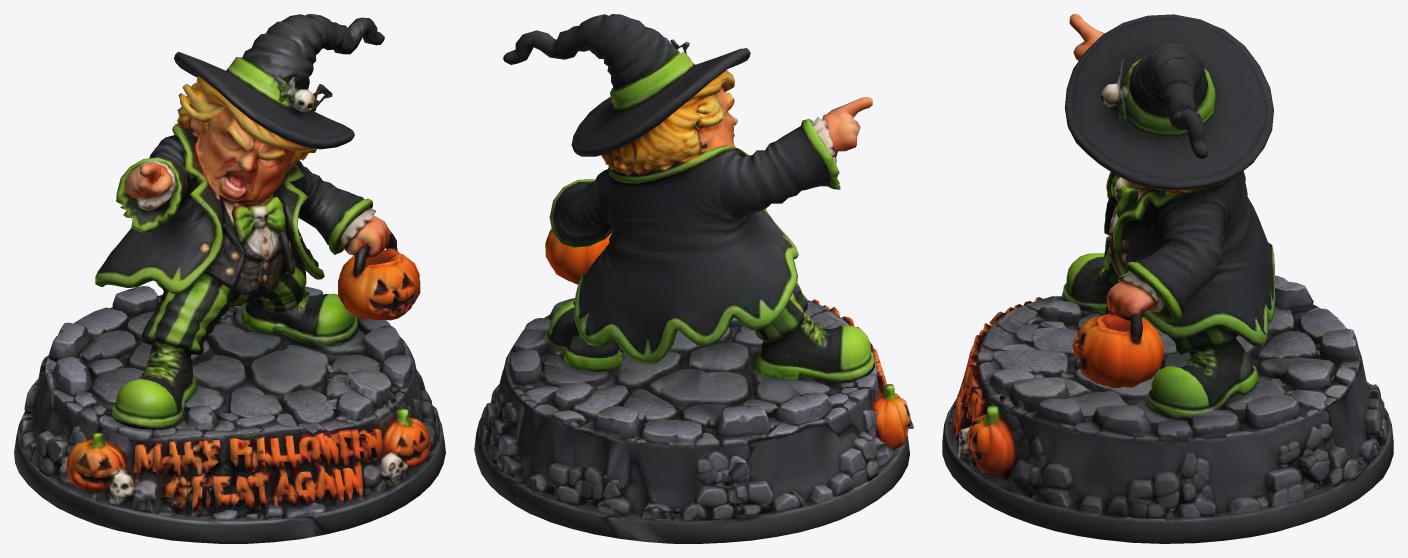
Rendered from warlock.glb.
The picture shows the model from 3 angles, left to right: view 1: azimuth 30°, elevation 25°; view 2: azimuth 150°, elevation 25°; view 3: azimuth 270°, elevation 25°; orthographic projection. The views are drawn at different scales.
Parts seen in each view (by area): view 1: tripo_node_a04eb198-31d1-423c-8a52-1ca07f72ce1d; view 2: tripo_node_a04eb198-31d1-423c-8a52-1ca07f72ce1d; view 3: tripo_node_a04eb198-31d1-423c-8a52-1ca07f72ce1d.
Boxes of the visible parts, bbox=[...] form: tripo_node_a04eb198-31d1-423c-8a52-1ca07f72ce1d: bbox=[14, 14, 445, 543]; tripo_node_a04eb198-31d1-423c-8a52-1ca07f72ce1d: bbox=[474, 14, 913, 543]; tripo_node_a04eb198-31d1-423c-8a52-1ca07f72ce1d: bbox=[942, 14, 1393, 543].
Bounding box in the file's own units: 2.77 × 2.95 × 2.77.
1 material, 1 textured.
